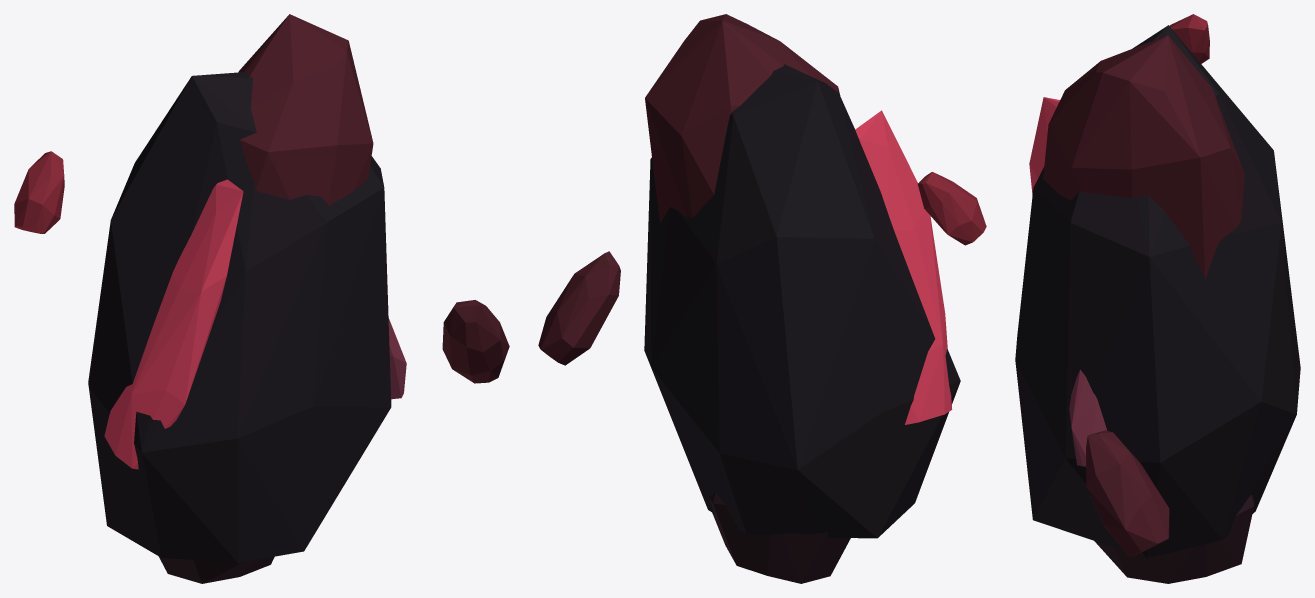
Rendered from FSA_WORLD_NightmareStone.glb.
The picture shows the model from 3 angles, left to right: view 1: azimuth 30°, elevation 25°; view 2: azimuth 150°, elevation 25°; view 3: azimuth 270°, elevation 25°; orthographic projection. The views are drawn at different scales.
Parts seen in each view (by area): view 1: Core, UpperFacet, BrightFracture, SatelliteA, SatelliteB, LowerFacet, EdgeFracture; view 2: Core, UpperFacet, BrightFracture, LowerFacet, SatelliteA, SatelliteB; view 3: Core, UpperFacet, SatelliteA, LowerFacet, EdgeFracture, SatelliteB, BrightFracture.
Part boxes in pixels (left/top/right/bottom): Core: left=88, top=72, right=391, bottom=562; UpperFacet: left=238, top=14, right=373, bottom=205; BrightFracture: left=104, top=179, right=243, bottom=469; SatelliteA: left=442, top=300, right=509, bottom=383; SatelliteB: left=14, top=151, right=64, bottom=233; LowerFacet: left=159, top=556, right=274, bottom=583; EdgeFracture: left=388, top=318, right=406, bottom=399; Core: left=644, top=64, right=960, bottom=538; UpperFacet: left=645, top=14, right=840, bottom=223; BrightFracture: left=855, top=110, right=952, bottom=424; LowerFacet: left=708, top=493, right=850, bottom=583; SatelliteA: left=538, top=251, right=620, bottom=365; SatelliteB: left=917, top=172, right=986, bottom=245; Core: left=1015, top=25, right=1300, bottom=558; UpperFacet: left=1043, top=35, right=1244, bottom=279; SatelliteA: left=1086, top=430, right=1169, bottom=557; LowerFacet: left=1094, top=495, right=1253, bottom=583; EdgeFracture: left=1069, top=369, right=1106, bottom=466; SatelliteB: left=1169, top=14, right=1209, bottom=63; BrightFracture: left=1029, top=97, right=1059, bottom=195.
Size of the model in its own units: 1.99 by 2.16 by 0.98.
